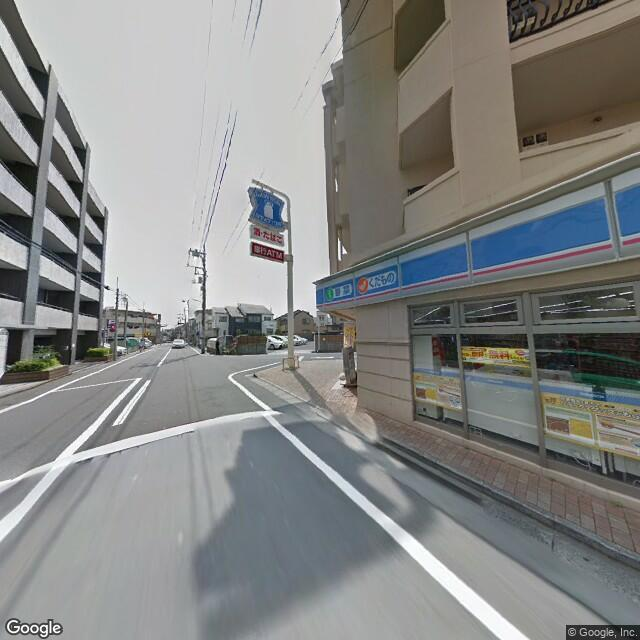lawson: (315, 166, 638, 308), (246, 177, 287, 233)
